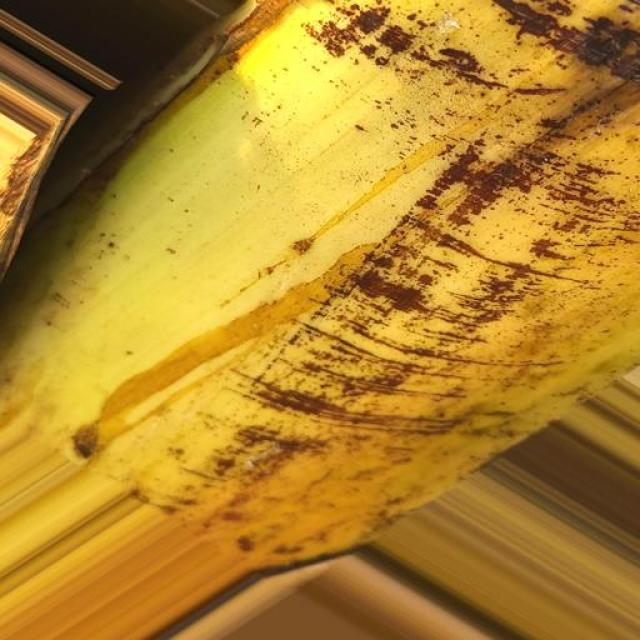Anthracnose: (1, 6, 640, 574)
